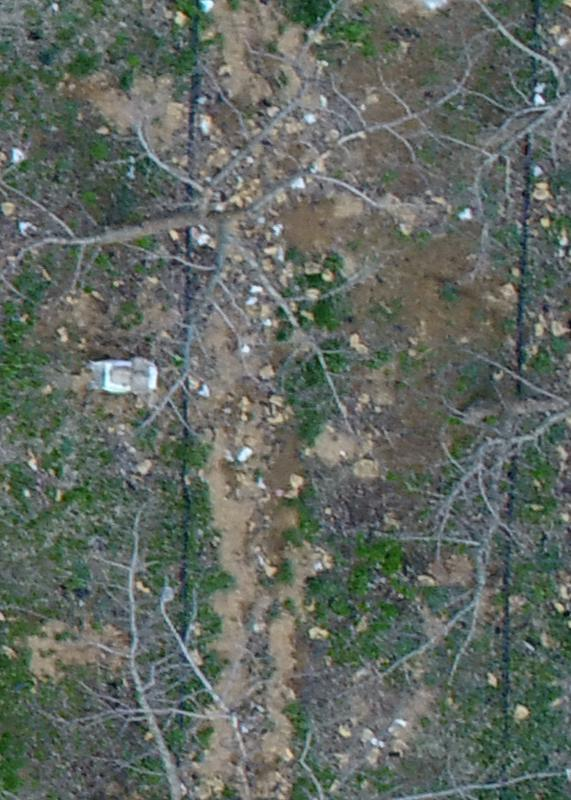apple: (10, 10, 480, 456)
